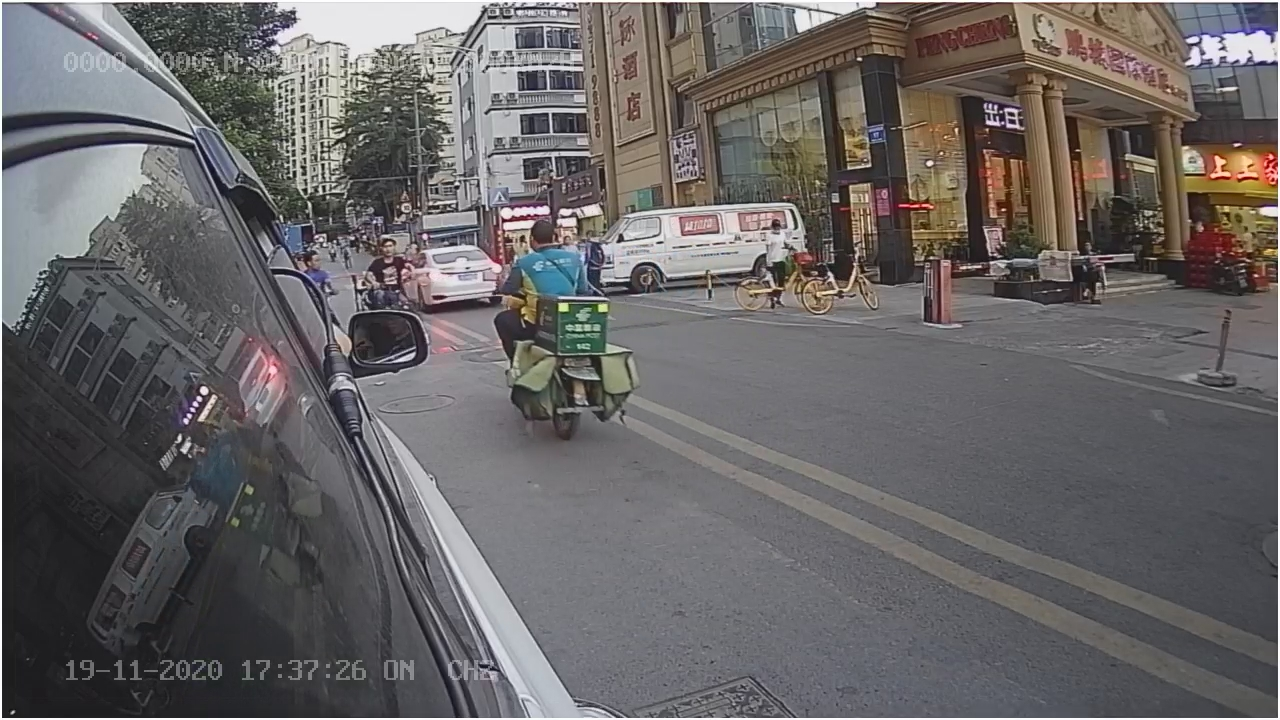person: (502, 220, 597, 291)
